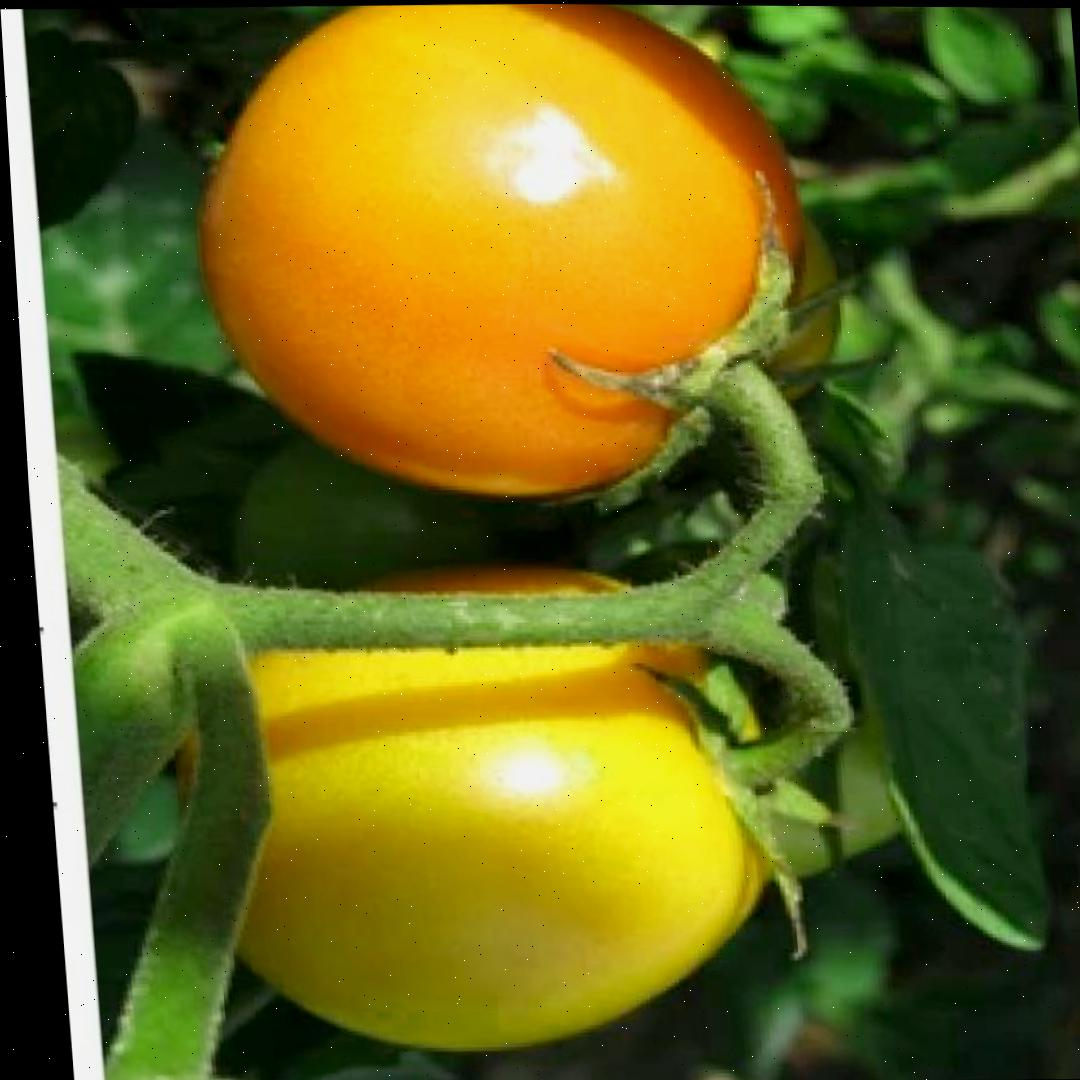setengah_matang: (180, 1, 833, 510), (155, 556, 802, 1066)
